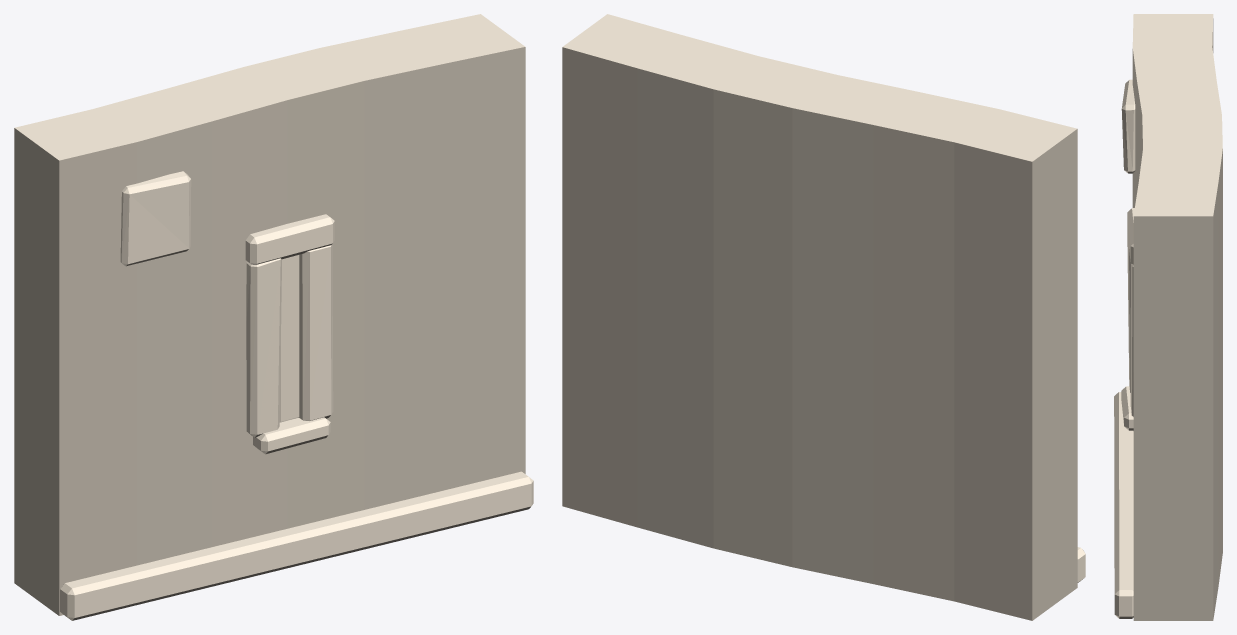
Rendered from SM_VK_Def_StoneUp_Slit.fbx.
The picture shows the model from 3 angles, left to right: view 1: azimuth 30°, elevation 25°; view 2: azimuth 150°, elevation 25°; view 3: azimuth 270°, elevation 25°; orthographic projection. The views are drawn at different scales.
Parts seen in each view (by area): view 1: SM_VK_Def_StoneUp_Slit.001; view 2: SM_VK_Def_StoneUp_Slit.001; view 3: SM_VK_Def_StoneUp_Slit.001.
Part boxes in pixels (x1,y1,x2,y2): SM_VK_Def_StoneUp_Slit.001: (14,14,533,620); SM_VK_Def_StoneUp_Slit.001: (562,14,1085,620); SM_VK_Def_StoneUp_Slit.001: (1114,14,1222,620).
Bounding box in the file's own units: 3 × 2.8 × 0.6813.
